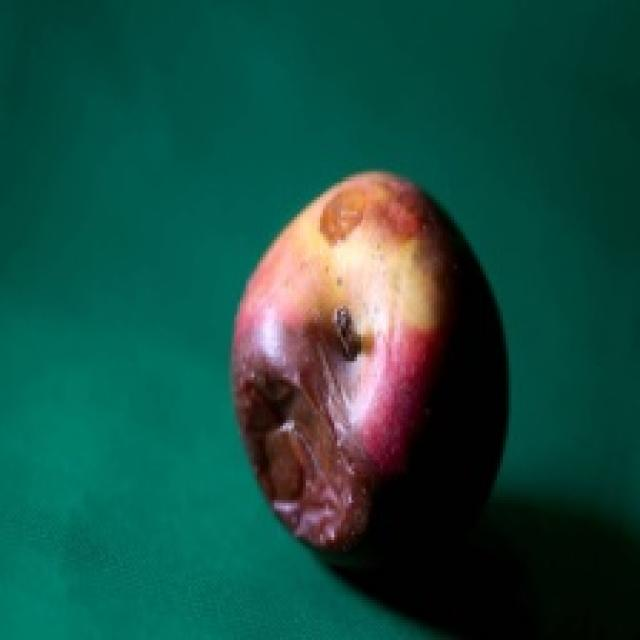rotten_apple: (242, 174, 501, 563)
